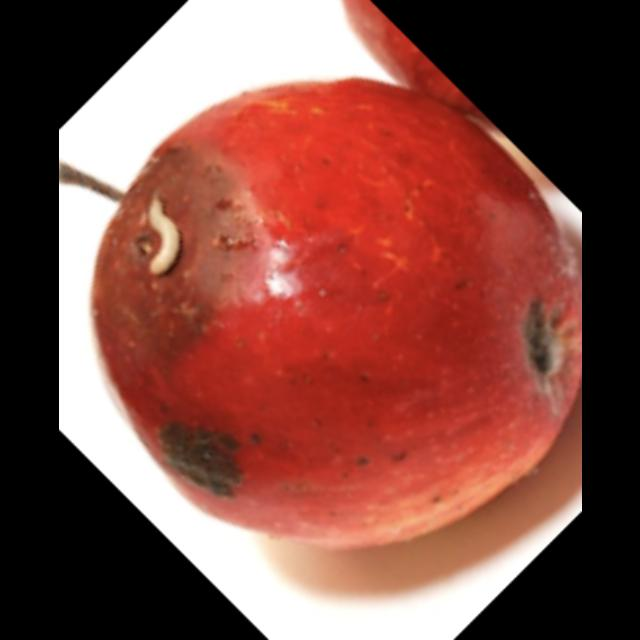Apel Tidak Segar: (90, 74, 582, 568)
